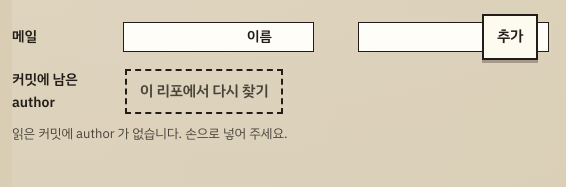
Test: IdentityPanel › 메일 형태가 아니면 더하지 않고 이유를 말한다
This screenshot has width=566, height=187.
Type "나" into the field labelled "메일" at (218, 37), box [123,22,314,52]
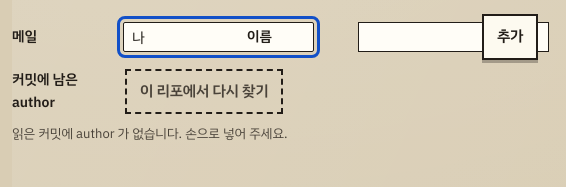
Click the button "추가" at (510, 37), box [482,14,538,60]
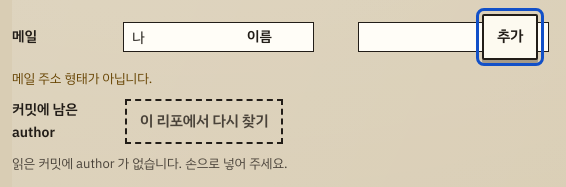
Expected: the text "메일 주소 형태가 아닙니다." is shown, [12,68,152,88]
